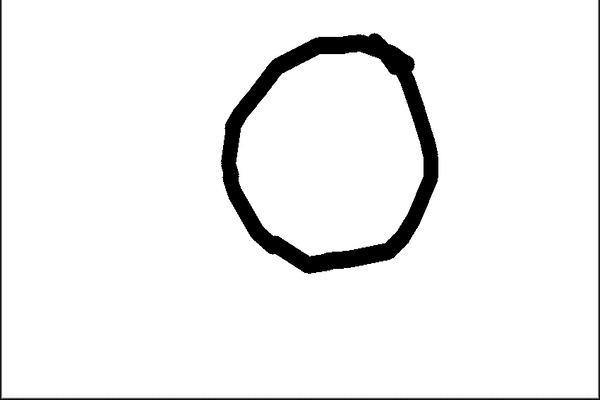O: (208, 25, 446, 278)
